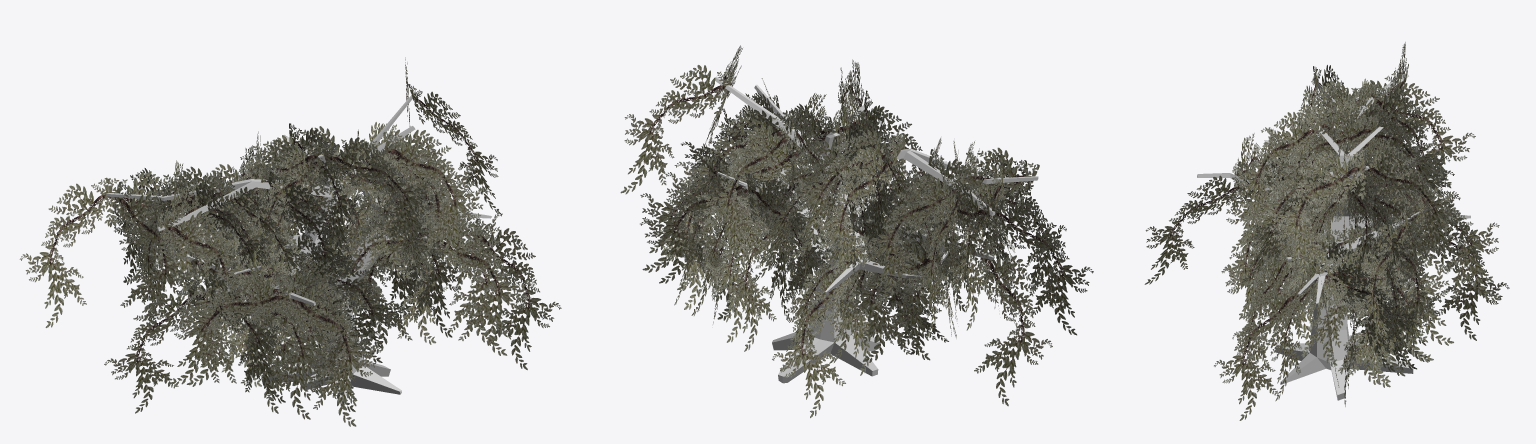
The model's file is tree1Props.fbx.
3 renders of one model, left to right at view 1: azimuth 30°, elevation 25°; view 2: azimuth 150°, elevation 25°; view 3: azimuth 270°, elevation 25°, orthographic. The views are drawn at different scales.
Visible parts, largest first — view 1: Cube.004, Cube.004|Empty.004|Dupli|37, Cube.004|Empty.004|Dupli|71, Cube.004|Empty.004|Dupli|75, Cube.004|Empty.004|Dupli|99, Cube.004|Empty.004|Dupli|63, Cube.004|Empty.004|Dupli|68, Cube.004|Empty.004|Dupli|98, Cube.004|Empty.004|Dupli|12, Cube.004|Empty.004|Dupli|50, Cube.004|Empty.004|Dupli|95, Cube.004|Empty.004|Dupli|49 (+48 smaller); view 2: Cube.004, Cube.004|Empty.004|Dupli|50, Cube.004|Empty.004|Dupli|65, Cube.004|Empty.004|Dupli|99, Cube.004|Empty.004|Dupli|81, Cube.004|Empty.004|Dupli|20, Cube.004|Empty.004|Dupli|87, Cube.004|Empty.004|Dupli|43, Cube.004|Empty.004|Dupli|30, Cube.004|Empty.004|Dupli|54, Cube.004|Empty.004|Dupli|11, Cube.004|Empty.004|Dupli|22 (+48 smaller); view 3: Cube.004, Cube.004|Empty.004|Dupli|36, Cube.004|Empty.004|Dupli|65, Cube.004|Empty.004|Dupli|12, Cube.004|Empty.004|Dupli|68, Cube.004|Empty.004|Dupli|71, Cube.004|Empty.004|Dupli|15, Cube.004|Empty.004|Dupli|43, Cube.004|Empty.004|Dupli|93, Cube.004|Empty.004|Dupli|66, Cube.004|Empty.004|Dupli|78, Cube.004|Empty.004|Dupli|11 (+41 smaller).
Boxes of the visible parts, bbox=[...] form: Cube.004: bbox=[106, 91, 491, 404]; Cube.004|Empty.004|Dupli|37: bbox=[383, 129, 488, 270]; Cube.004|Empty.004|Dupli|71: bbox=[285, 280, 381, 426]; Cube.004|Empty.004|Dupli|75: bbox=[169, 272, 294, 385]; Cube.004|Empty.004|Dupli|99: bbox=[19, 177, 111, 328]; Cube.004|Empty.004|Dupli|63: bbox=[426, 222, 534, 355]; Cube.004|Empty.004|Dupli|68: bbox=[320, 137, 436, 256]; Cube.004|Empty.004|Dupli|98: bbox=[108, 181, 198, 334]; Cube.004|Empty.004|Dupli|12: bbox=[470, 218, 561, 370]; Cube.004|Empty.004|Dupli|50: bbox=[104, 282, 201, 413]; Cube.004|Empty.004|Dupli|95: bbox=[158, 210, 251, 341]; Cube.004|Empty.004|Dupli|49: bbox=[238, 278, 334, 419]; Cube.004: bbox=[691, 76, 1038, 383]; Cube.004|Empty.004|Dupli|50: bbox=[972, 240, 1052, 406]; Cube.004|Empty.004|Dupli|65: bbox=[620, 64, 734, 194]; Cube.004|Empty.004|Dupli|99: bbox=[991, 197, 1093, 335]; Cube.004|Empty.004|Dupli|81: bbox=[855, 173, 965, 306]; Cube.004|Empty.004|Dupli|20: bbox=[697, 120, 793, 269]; Cube.004|Empty.004|Dupli|87: bbox=[811, 142, 898, 297]; Cube.004|Empty.004|Dupli|43: bbox=[772, 258, 855, 418]; Cube.004|Empty.004|Dupli|30: bbox=[789, 130, 904, 259]; Cube.004|Empty.004|Dupli|54: bbox=[836, 237, 943, 362]; Cube.004|Empty.004|Dupli|11: bbox=[640, 171, 753, 283]; Cube.004|Empty.004|Dupli|22: bbox=[696, 133, 807, 277]; Cube.004: bbox=[1197, 73, 1470, 400]; Cube.004|Empty.004|Dupli|36: bbox=[1263, 150, 1365, 288]; Cube.004|Empty.004|Dupli|65: bbox=[1359, 147, 1460, 272]; Cube.004|Empty.004|Dupli|12: bbox=[1214, 281, 1301, 420]; Cube.004|Empty.004|Dupli|68: bbox=[1232, 112, 1320, 245]; Cube.004|Empty.004|Dupli|71: bbox=[1144, 174, 1247, 284]; Cube.004|Empty.004|Dupli|15: bbox=[1324, 246, 1437, 362]; Cube.004|Empty.004|Dupli|43: bbox=[1425, 214, 1509, 340]; Cube.004|Empty.004|Dupli|93: bbox=[1371, 83, 1475, 205]; Cube.004|Empty.004|Dupli|66: bbox=[1268, 111, 1378, 228]; Cube.004|Empty.004|Dupli|78: bbox=[1351, 209, 1412, 363]; Cube.004|Empty.004|Dupli|11: bbox=[1379, 213, 1441, 366].
Size of the model in its own units: 8115 by 5060 by 6184.
